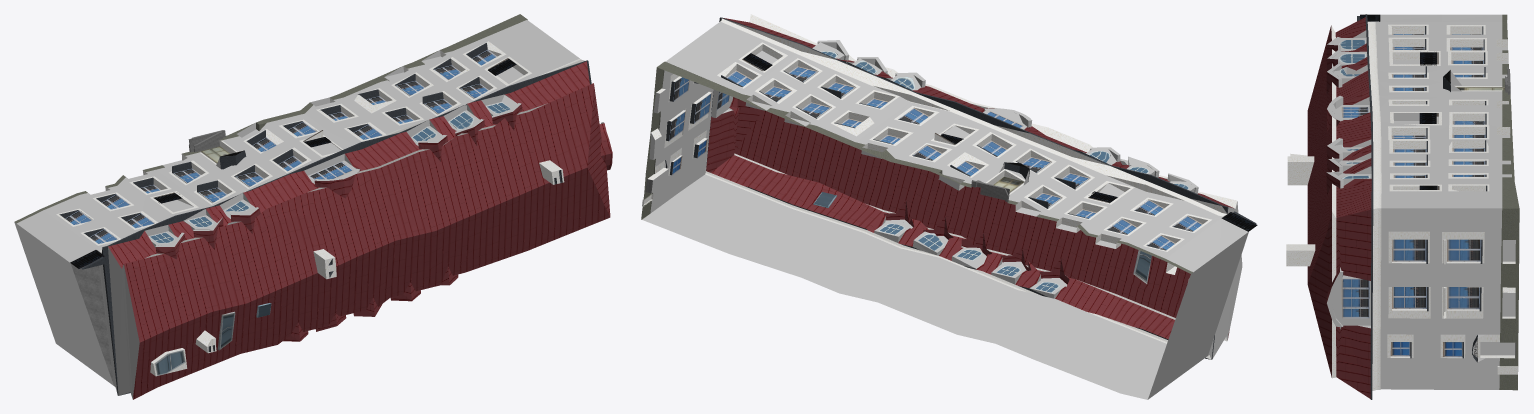
File: Uus_17-origo.obj
3 views of the same model, side by side, from view 1: azimuth 30°, elevation 25°; view 2: azimuth 150°, elevation 25°; view 3: azimuth 270°, elevation 25° (orthographic). The views are drawn at different scales.
Visible parts, largest first — view 1: Uus17; view 2: Uus17; view 3: Uus17.
Part boxes in pixels (<box>): Uus17: <box>14,14,612,399</box>; Uus17: <box>641,14,1257,399</box>; Uus17: <box>1286,14,1519,399</box>.
Size of the model in its own units: 42.19 by 16.5 by 14.06.
